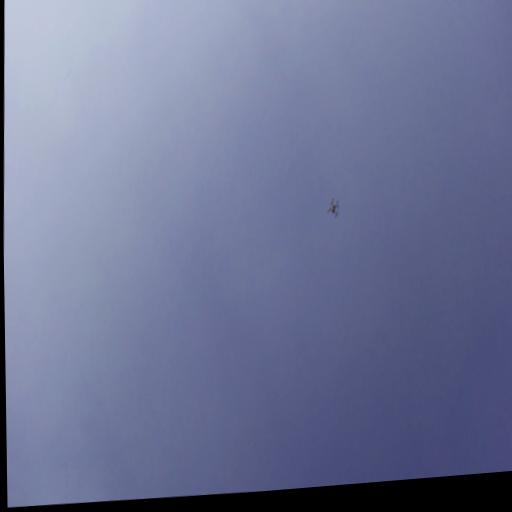drones: (326, 194, 341, 222)
